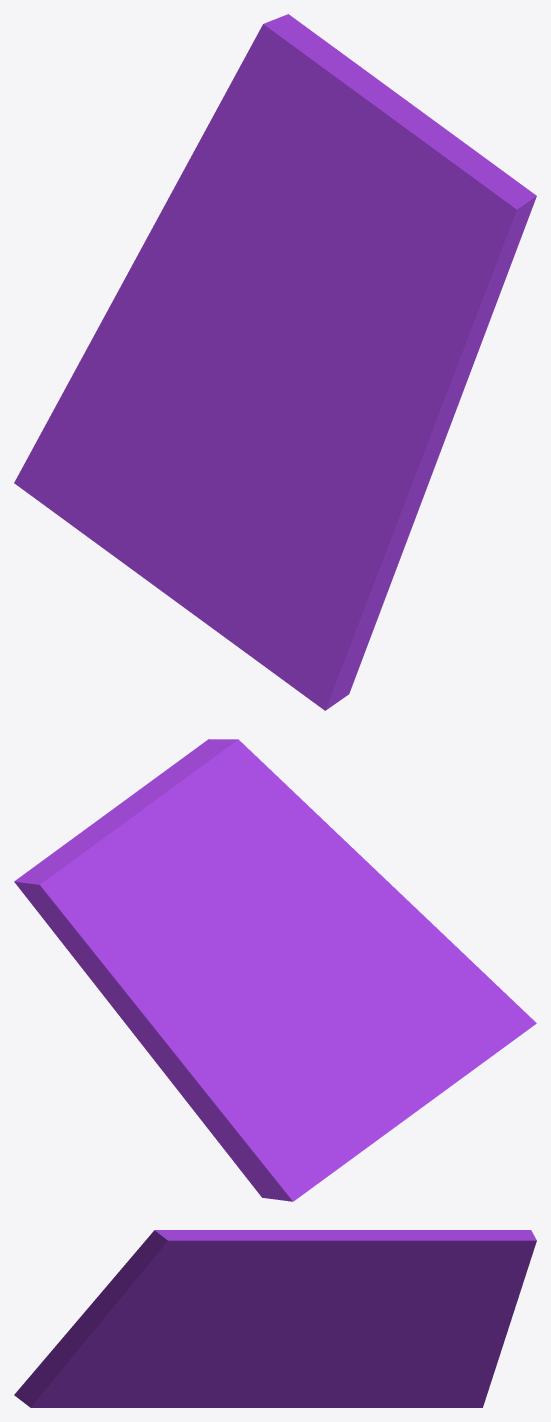
The model's file is Window_58_chunks.fbx.
3 views of the same model, one above another, from view 1: azimuth 30°, elevation 25°; view 2: azimuth 150°, elevation 25°; view 3: azimuth 270°, elevation 25° (orthographic). The views are drawn at different scales.
Visible parts, largest first — view 1: Window_58_8, Window_58_2, Window_58_9, Window_58_4, Window_58_26, Window_58_19, Window_58_6, Window_58_22, Window_58_33, Window_58_32, Window_58_13, Window_58_30 (+17 smaller); view 2: Window_58_2, Window_58_33, Window_58_8, Window_58_4, Window_58_9, Window_58_26, Window_58_30, Window_58_6, Window_58_22, Window_58_32, Window_58_29, Window_58_27 (+17 smaller); view 3: Window_58_5, Window_58_9, Window_58_8, Window_58_23, Window_58_20, Window_58_33, Window_58_4, Window_58_2, Window_58_19, Window_58_7, Window_58_24, Window_58_15 (+20 smaller).
Boxes of the visible parts, x1,y1,x2,y2 form: Window_58_8: (286,446,432,710); Window_58_2: (214,331,441,471); Window_58_9: (307,329,478,498); Window_58_4: (129,301,282,568); Window_58_26: (54,400,168,566); Window_58_19: (398,218,528,346); Window_58_6: (266,460,351,681); Window_58_22: (241,23,313,202); Window_58_33: (149,65,254,249); Window_58_32: (197,154,276,322); Window_58_13: (131,512,235,628); Window_58_30: (103,234,199,365); Window_58_2: (265,831,361,1035); Window_58_33: (46,913,179,1057); Window_58_8: (379,874,536,1045); Window_58_4: (237,949,384,1135); Window_58_9: (303,808,395,968); Window_58_26: (269,1064,382,1178); Window_58_30: (152,997,249,1090); Window_58_6: (356,945,506,1056); Window_58_22: (38,864,164,934); Window_58_32: (128,926,244,1004); Window_58_29: (178,1059,272,1142); Window_58_27: (216,1118,324,1201); Window_58_5: (335,1298,490,1359); Window_58_9: (88,1270,197,1359); Window_58_8: (14,1308,122,1407); Window_58_23: (399,1230,536,1275); Window_58_20: (215,1230,357,1272); Window_58_33: (431,1262,529,1333); Window_58_4: (296,1318,377,1407); Window_58_2: (151,1298,271,1367); Window_58_19: (121,1236,239,1291); Window_58_7: (62,1355,172,1407); Window_58_24: (331,1261,425,1308); Window_58_15: (263,1282,367,1325).
Bounding box in the file's own units: 756 × 829 × 1463.
